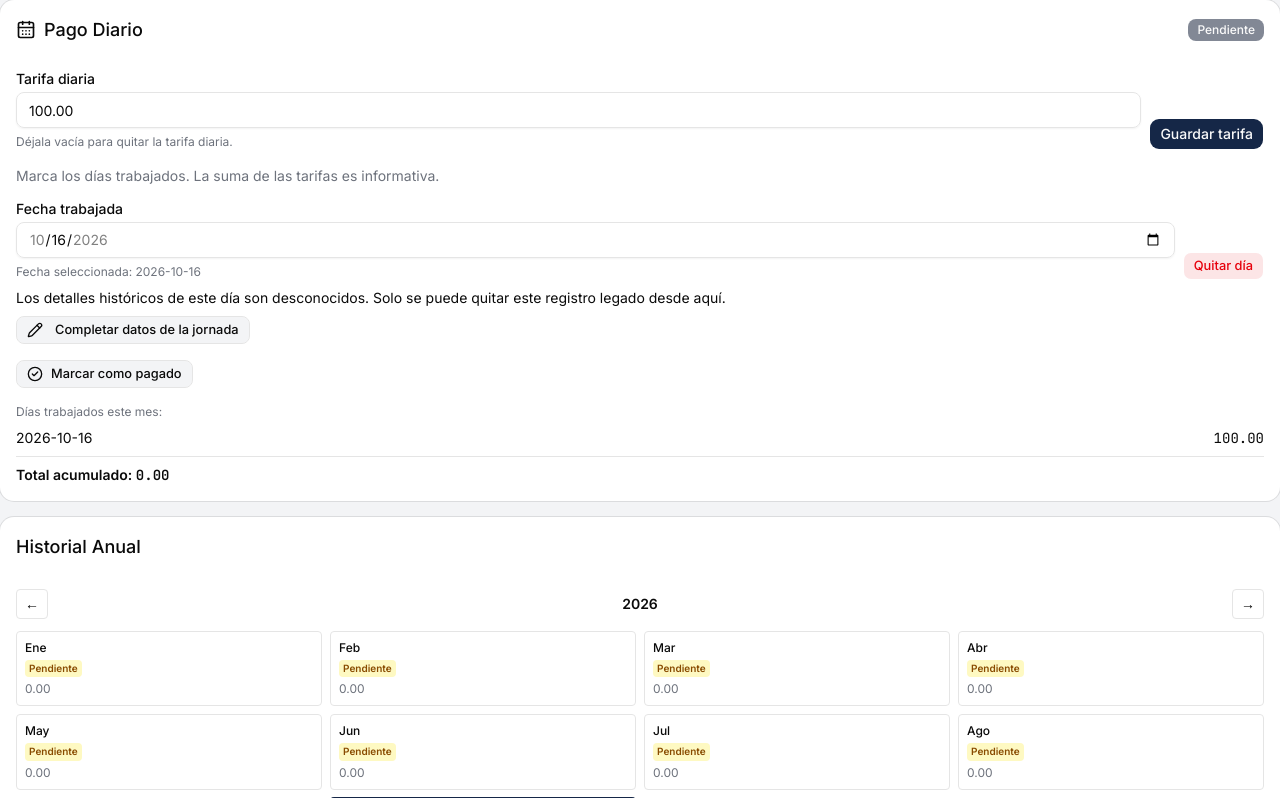
Test: DailyPayPanel › lets a legacy marked day receive explicitly selected operational details
This screenshot has width=1280, height=798.
expect the text "detalles históricos" is shown: met, box [16,289,726,306]
Click the button "Completar datos de la jornada" at (133, 330), box [16,316,250,344]
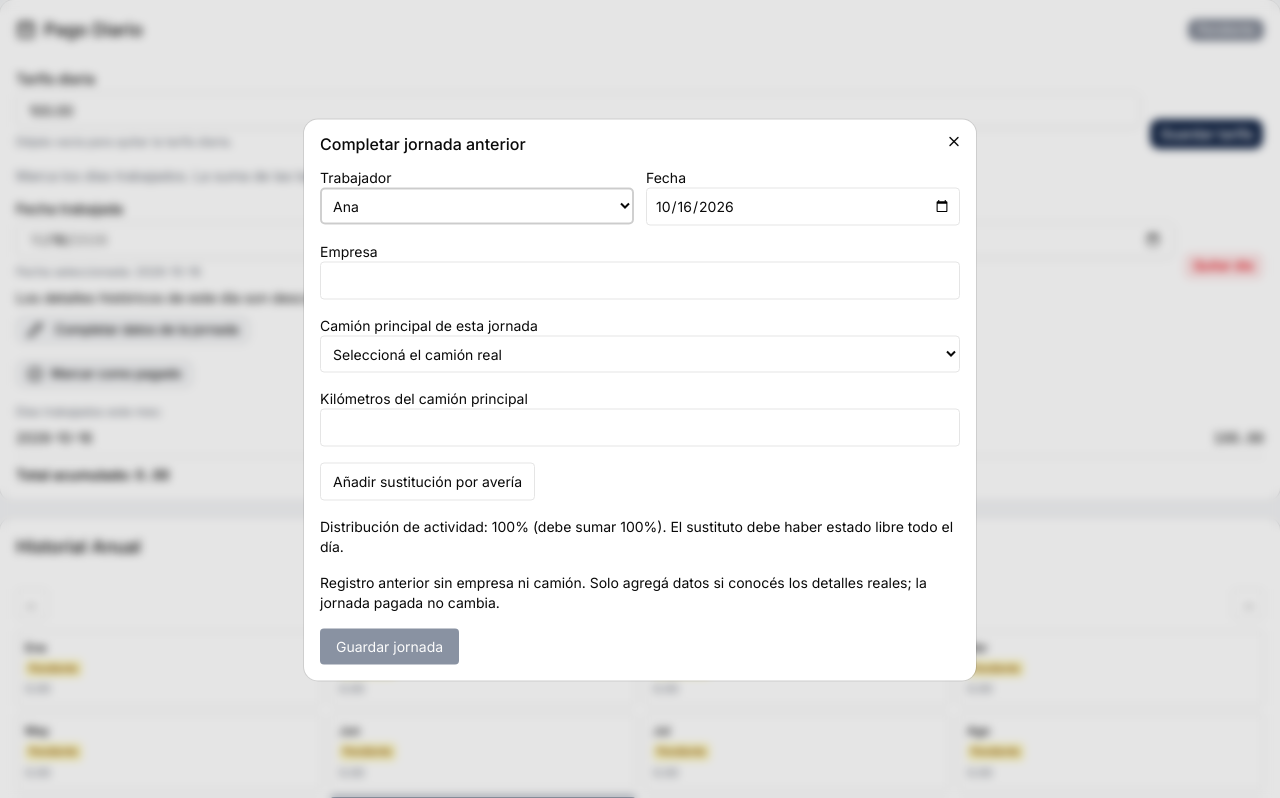
expect the dialog is shown: met, box [304,120,976,680]
expect the dropdown labelled "Camión principal de esta jornada" shows "Seleccioná el camión real": met, box [320,336,960,372]
